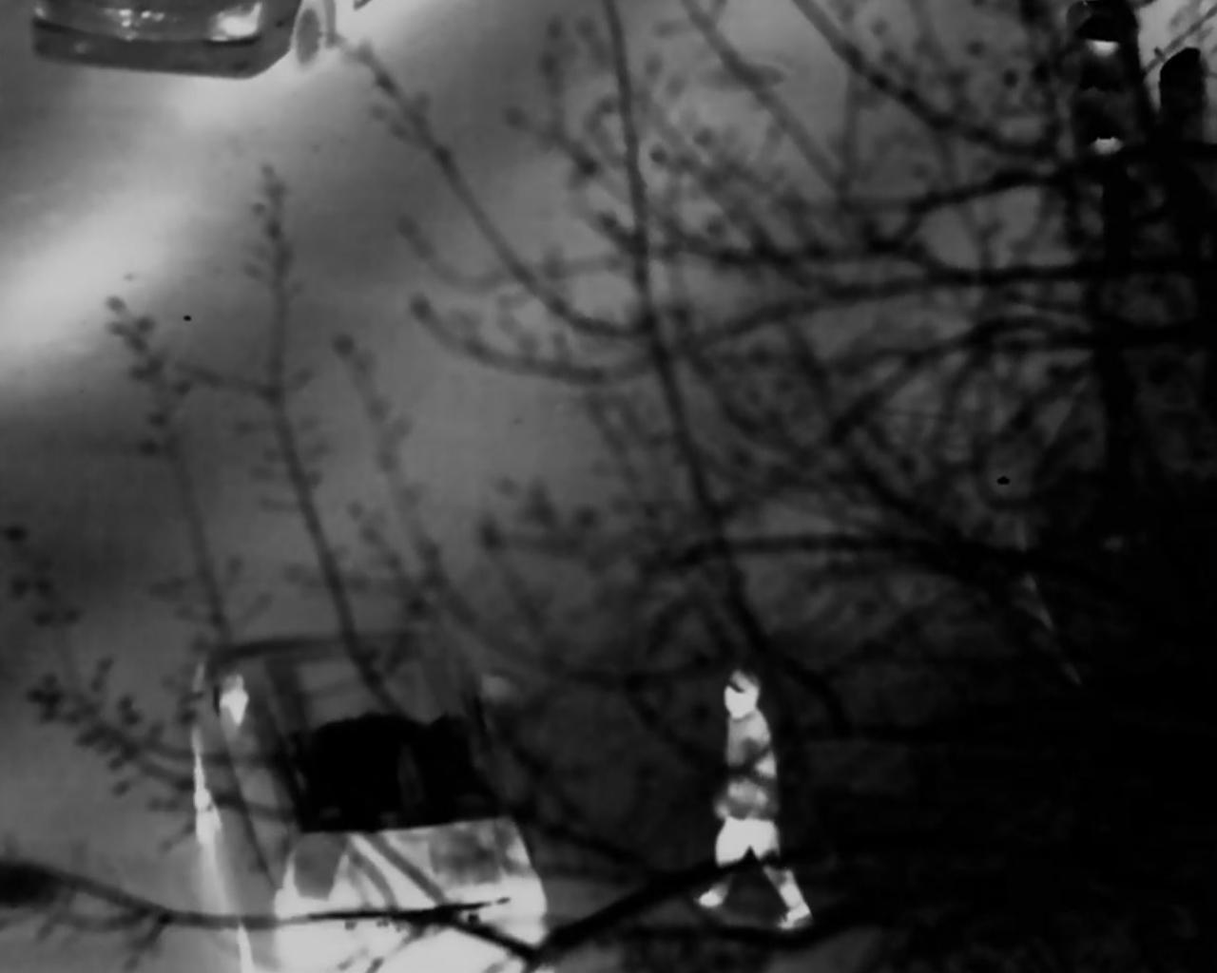person: (690, 669, 804, 933)
